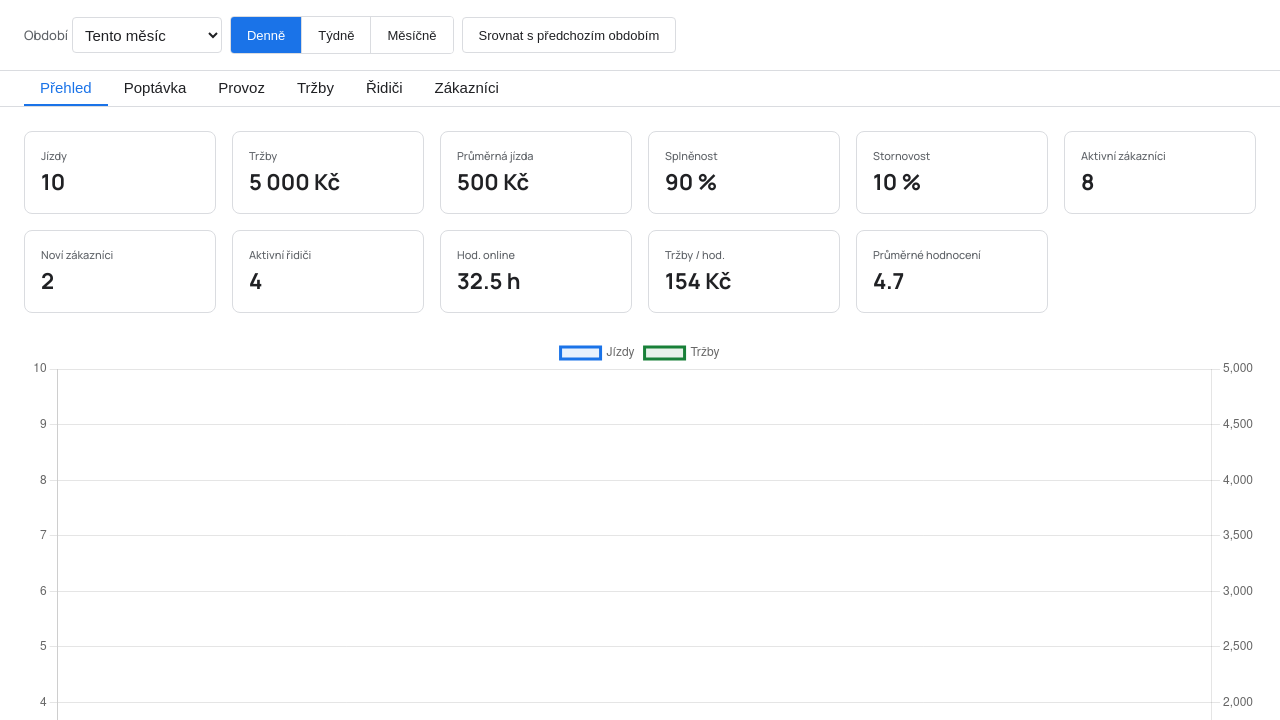
Test: AnalyticsPage › shows the Demand tab when clicking Poptávka
Step 1. Click the tab "Poptávka" → [155, 88], box [108,71,202,106]
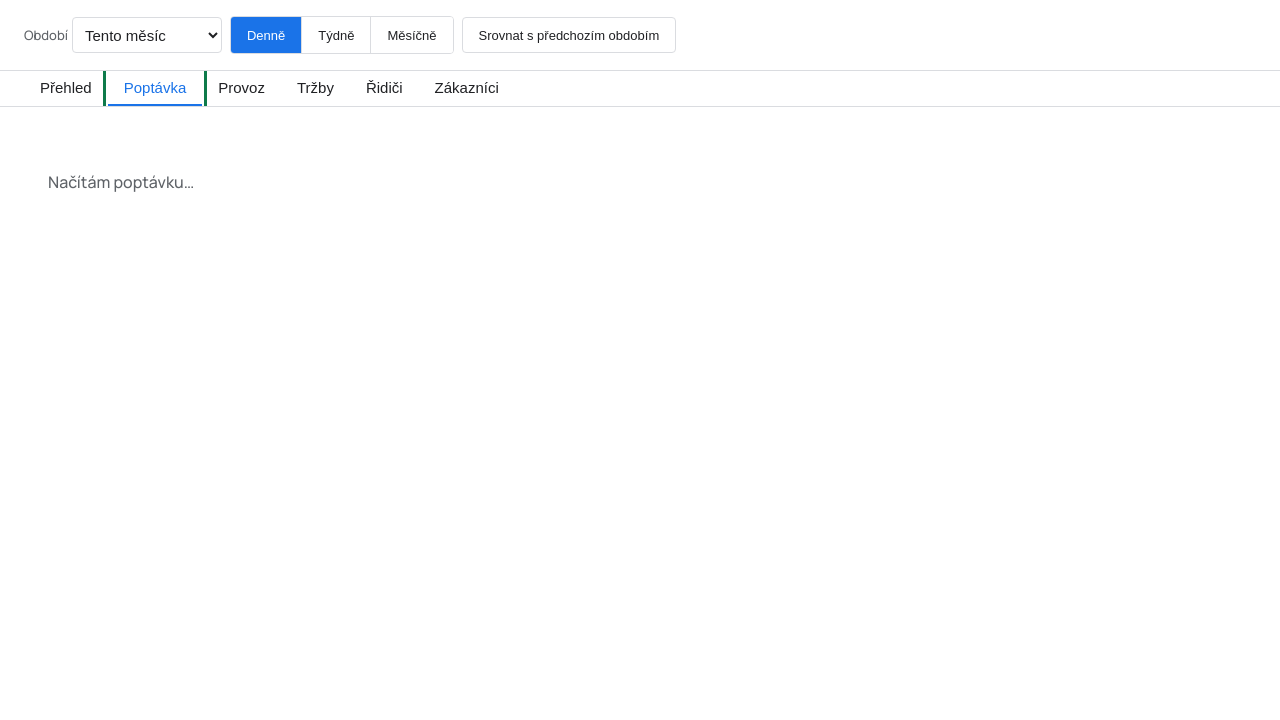
Check: the text "Načítám poptávku…" is shown, box [48,171,194,193]
